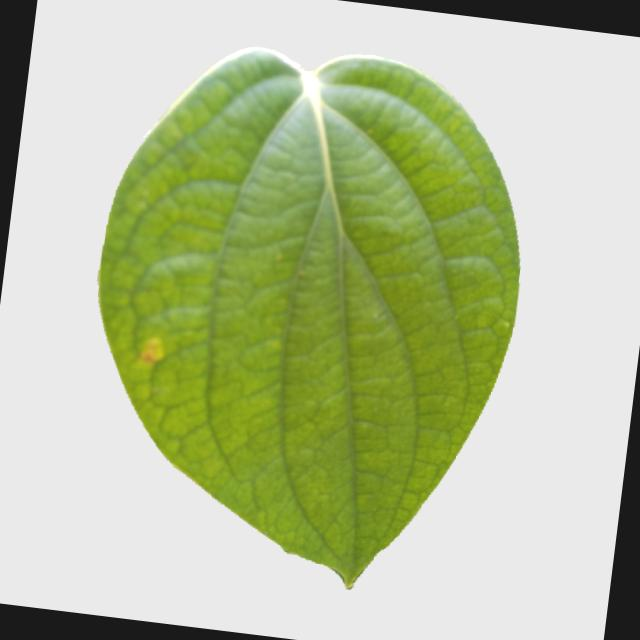healthy: (57, 20, 544, 612)
